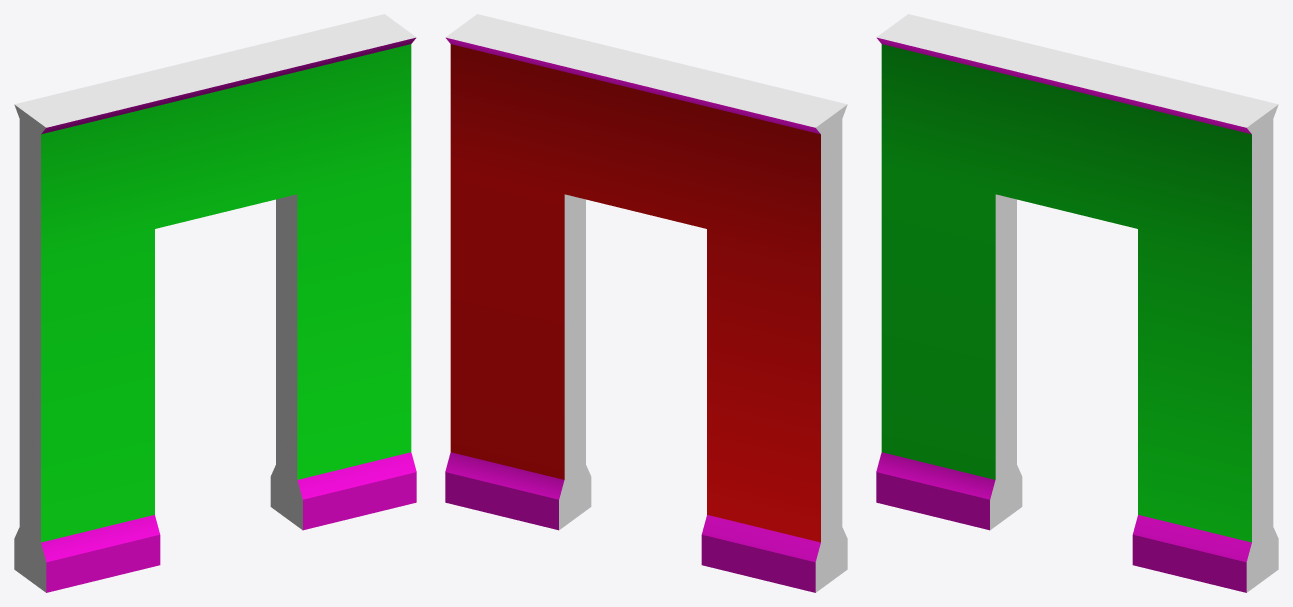
File: Door_V1_MES.FBX
3 views of the same model, side by side, from view 1: azimuth 30°, elevation 25°; view 2: azimuth 150°, elevation 25°; view 3: azimuth 330°, elevation 25° (orthographic).
Parts seen in each view (by area): view 1: ModularDoorway; view 2: ModularDoorway; view 3: ModularDoorway.
Part boxes in pixels (x1=…): ModularDoorway: x1=14, y1=14, x2=416, y2=592; ModularDoorway: x1=445, y1=14, x2=847, y2=592; ModularDoorway: x1=876, y1=14, x2=1278, y2=592.
Size of the model in its own units: 100 by 120 by 15.
